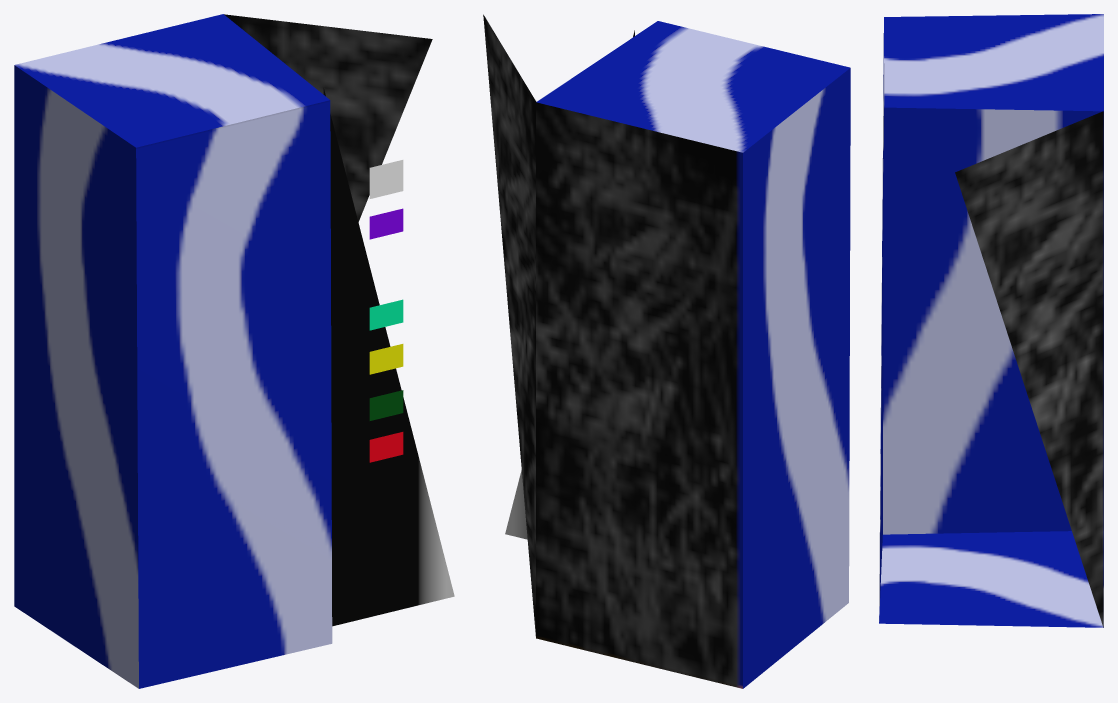
File: MaquinaDeSodaLOD1.fbx
3 renders of one model, left to right at view 1: azimuth 30°, elevation 25°; view 2: azimuth 150°, elevation 25°; view 3: azimuth 270°, elevation 25°, orthographic. The views are drawn at different scales.
Visible parts, largest first — view 1: MaquinaDeSodaLOD1; view 2: MaquinaDeSodaLOD1; view 3: MaquinaDeSodaLOD1.
Boxes of the visible parts, bbox=[...] form: MaquinaDeSodaLOD1: bbox=[14, 14, 454, 688]; MaquinaDeSodaLOD1: bbox=[483, 14, 850, 688]; MaquinaDeSodaLOD1: bbox=[879, 14, 1103, 627].
Bounding box in the file's own units: 135 × 205 × 80.81.
